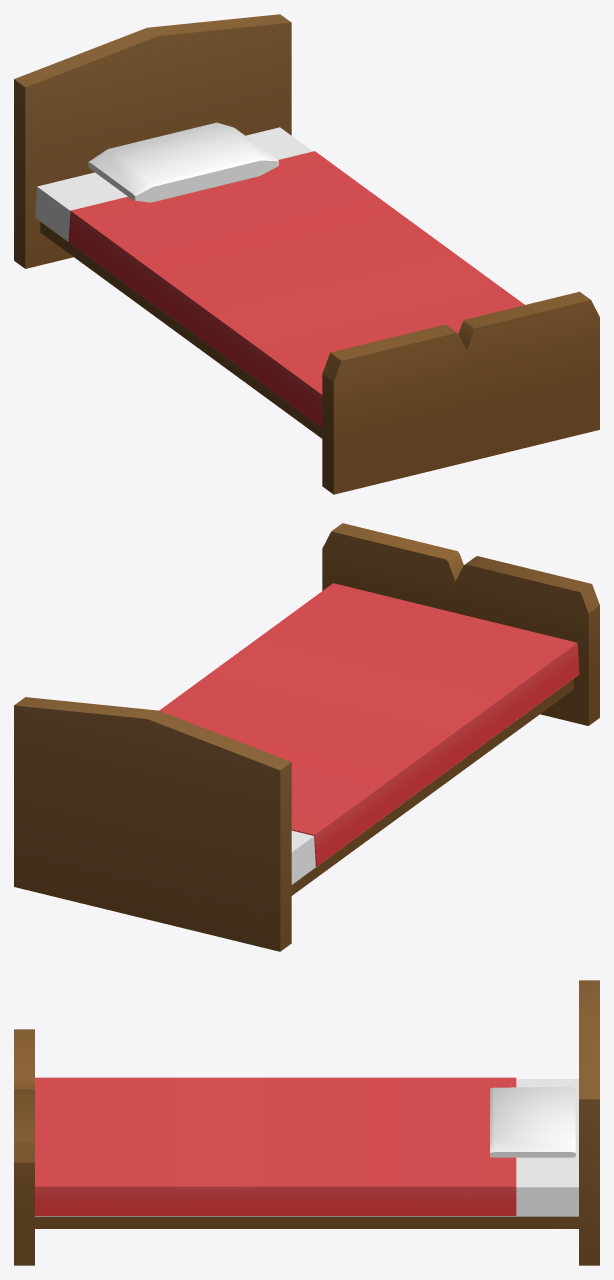
The model's file is bed1.FBX.
3 views of the same model, one above another, from view 1: azimuth 30°, elevation 25°; view 2: azimuth 150°, elevation 25°; view 3: azimuth 270°, elevation 25° (orthographic). The views are drawn at different scales.
Parts seen in each view (by area): view 1: Box006; view 2: Box006; view 3: Box006.
Part boxes in pixels (x1,y1,x2,y2): Box006: (14, 14, 599, 494); Box006: (14, 523, 599, 951); Box006: (14, 980, 599, 1265).
Bounding box in the file's own units: 237 × 493 × 170.
